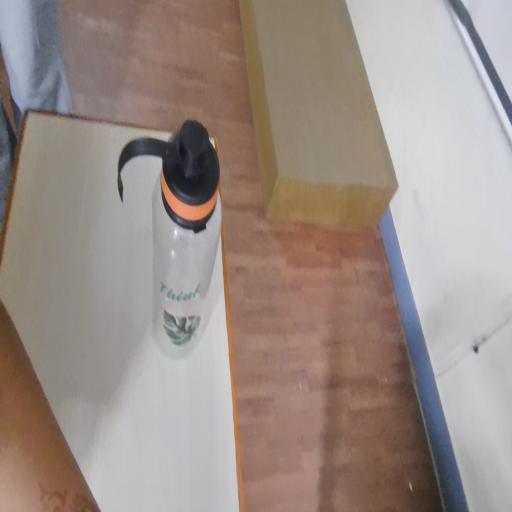Bottle: (127, 123, 234, 376)
